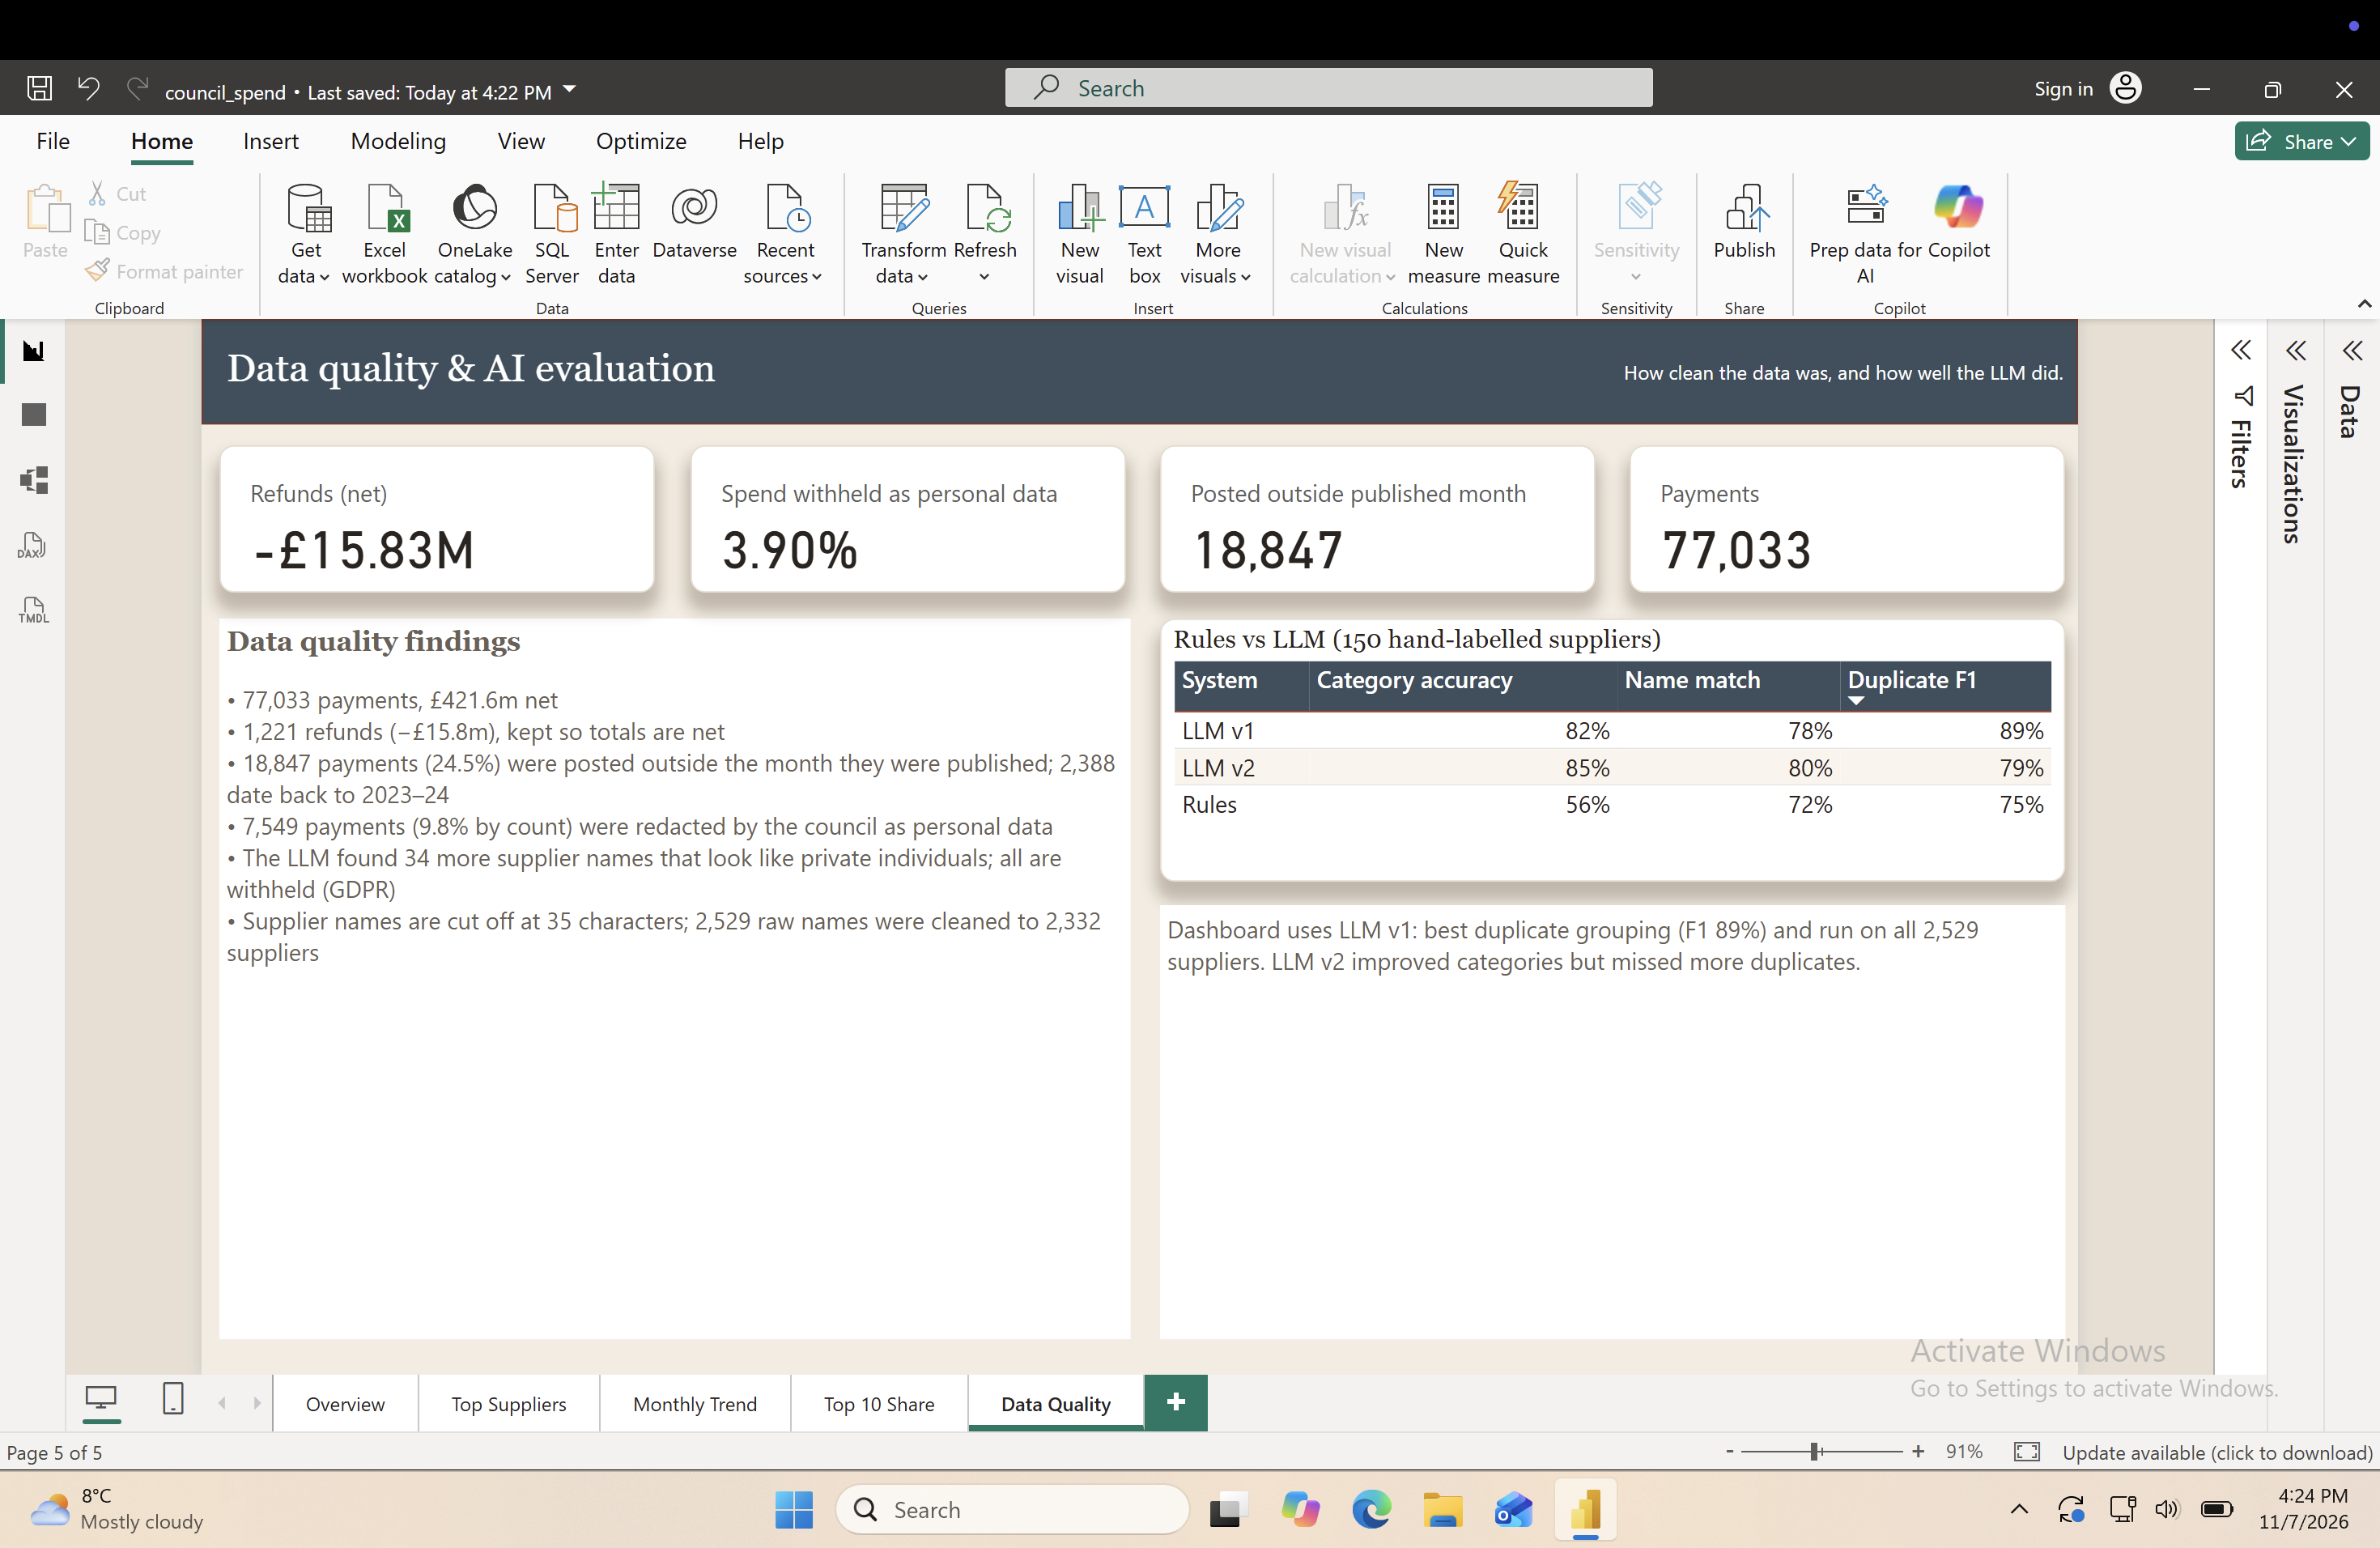

What the dashboard file says about the page in this screenshot:
{"tool":"powerbi","page":{"name":"Data Quality","canvas":[1280,720],"ordinal":4},"visuals":[{"type":"textbox","box":[12.4,204.3,621.4,491.5],"z":4000},{"type":"cardVisual","fields":{"Data":["fact_spend.Refunds"]},"box":[12.4,86.7,297.1,100.3],"z":5001},{"type":"shape","box":[0,0,1280,72],"z":5002},{"type":"textbox","box":[12.4,13.6,376.3,40.9],"z":5003},{"type":"textbox","box":[965.6,22.3,314.4,32.2],"z":5004},{"type":"cardVisual","fields":{"Data":["fact_spend.Withheld Share"]},"box":[333,86.7,297.1,100.3],"z":5005},{"type":"cardVisual","fields":{"Data":["fact_spend.Outside Month Label"]},"box":[653.6,86.7,297.1,100.3],"z":5006},{"type":"cardVisual","fields":{"Data":["fact_spend.Payments Label"]},"box":[974.2,86.7,297.1,100.3],"z":5007},{"type":"tableEx","title":"Rules vs LLM (150 hand-labelled suppliers)","fields":{"Values":["evaluation.System","evaluation.Category accuracy","evaluation.Name match","evaluation.Duplicate F1"]},"box":[653.6,204.3,617.7,179.5],"z":5008},{"type":"textbox","box":[653.6,399.8,617.7,100.3],"z":5009}]}

Visuals, with their boxes on the page's 1280x720 design canvas (x1, y1, x2, y2). These are canvas units, not pixel positions in the 2380x1548 screenshot, which may show the page scaled, cropped or inside an application window:
textbox: Rect(12, 204, 634, 696)
cardVisual - fact_spend.Refunds: Rect(12, 87, 310, 187)
shape: Rect(0, 0, 1280, 72)
textbox: Rect(12, 14, 389, 54)
textbox: Rect(966, 22, 1280, 54)
cardVisual - fact_spend.Withheld Share: Rect(333, 87, 630, 187)
cardVisual - fact_spend.Outside Month Label: Rect(654, 87, 951, 187)
cardVisual - fact_spend.Payments Label: Rect(974, 87, 1271, 187)
"Rules vs LLM (150 hand-labelled suppliers)" tableEx: Rect(654, 204, 1271, 384)
textbox: Rect(654, 400, 1271, 500)
